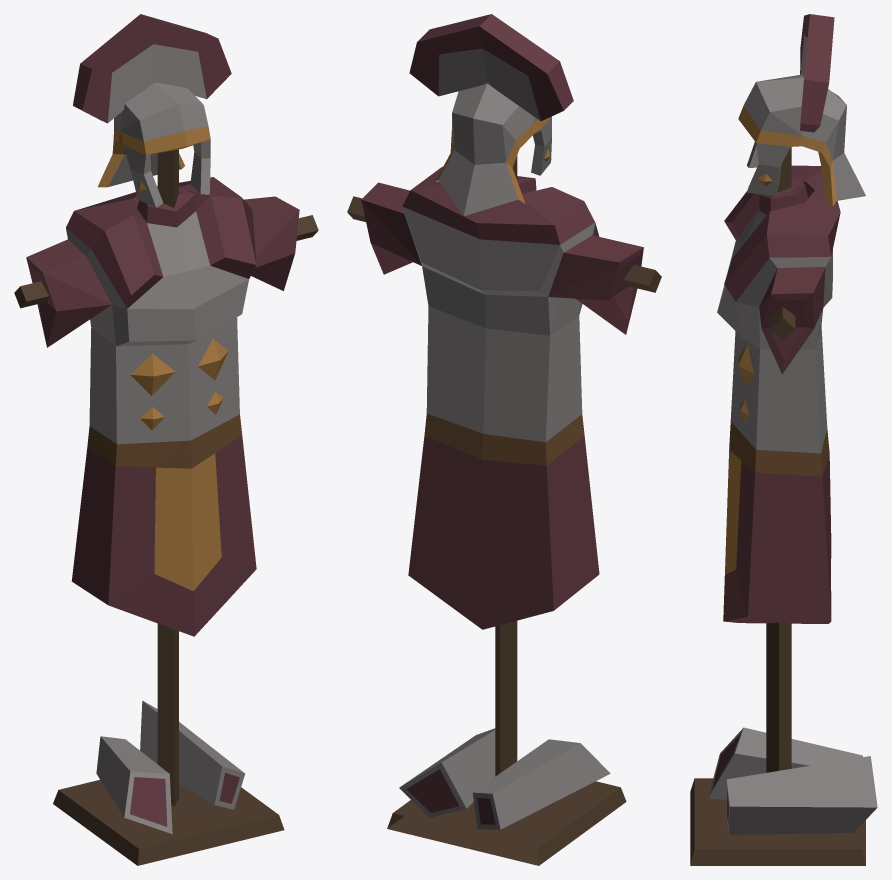
Rendered from SM_Armor_Roman_Leader_Empire.fbx.
The picture shows the model from 3 angles, left to right: view 1: azimuth 30°, elevation 25°; view 2: azimuth 150°, elevation 25°; view 3: azimuth 270°, elevation 25°; orthographic projection. The views are drawn at different scales.
Parts seen in each view (by area): view 1: SM_Armor_Roman_Leader_Empire; view 2: SM_Armor_Roman_Leader_Empire; view 3: SM_Armor_Roman_Leader_Empire.
Boxes of the visible parts, x1=… form: SM_Armor_Roman_Leader_Empire: x1=14, y1=14, x2=318, y2=865; SM_Armor_Roman_Leader_Empire: x1=347, y1=14, x2=661, y2=865; SM_Armor_Roman_Leader_Empire: x1=690, y1=14, x2=877, y2=865.
Bounding box in the file's own units: 0.7815 × 2.01 × 0.4189.
